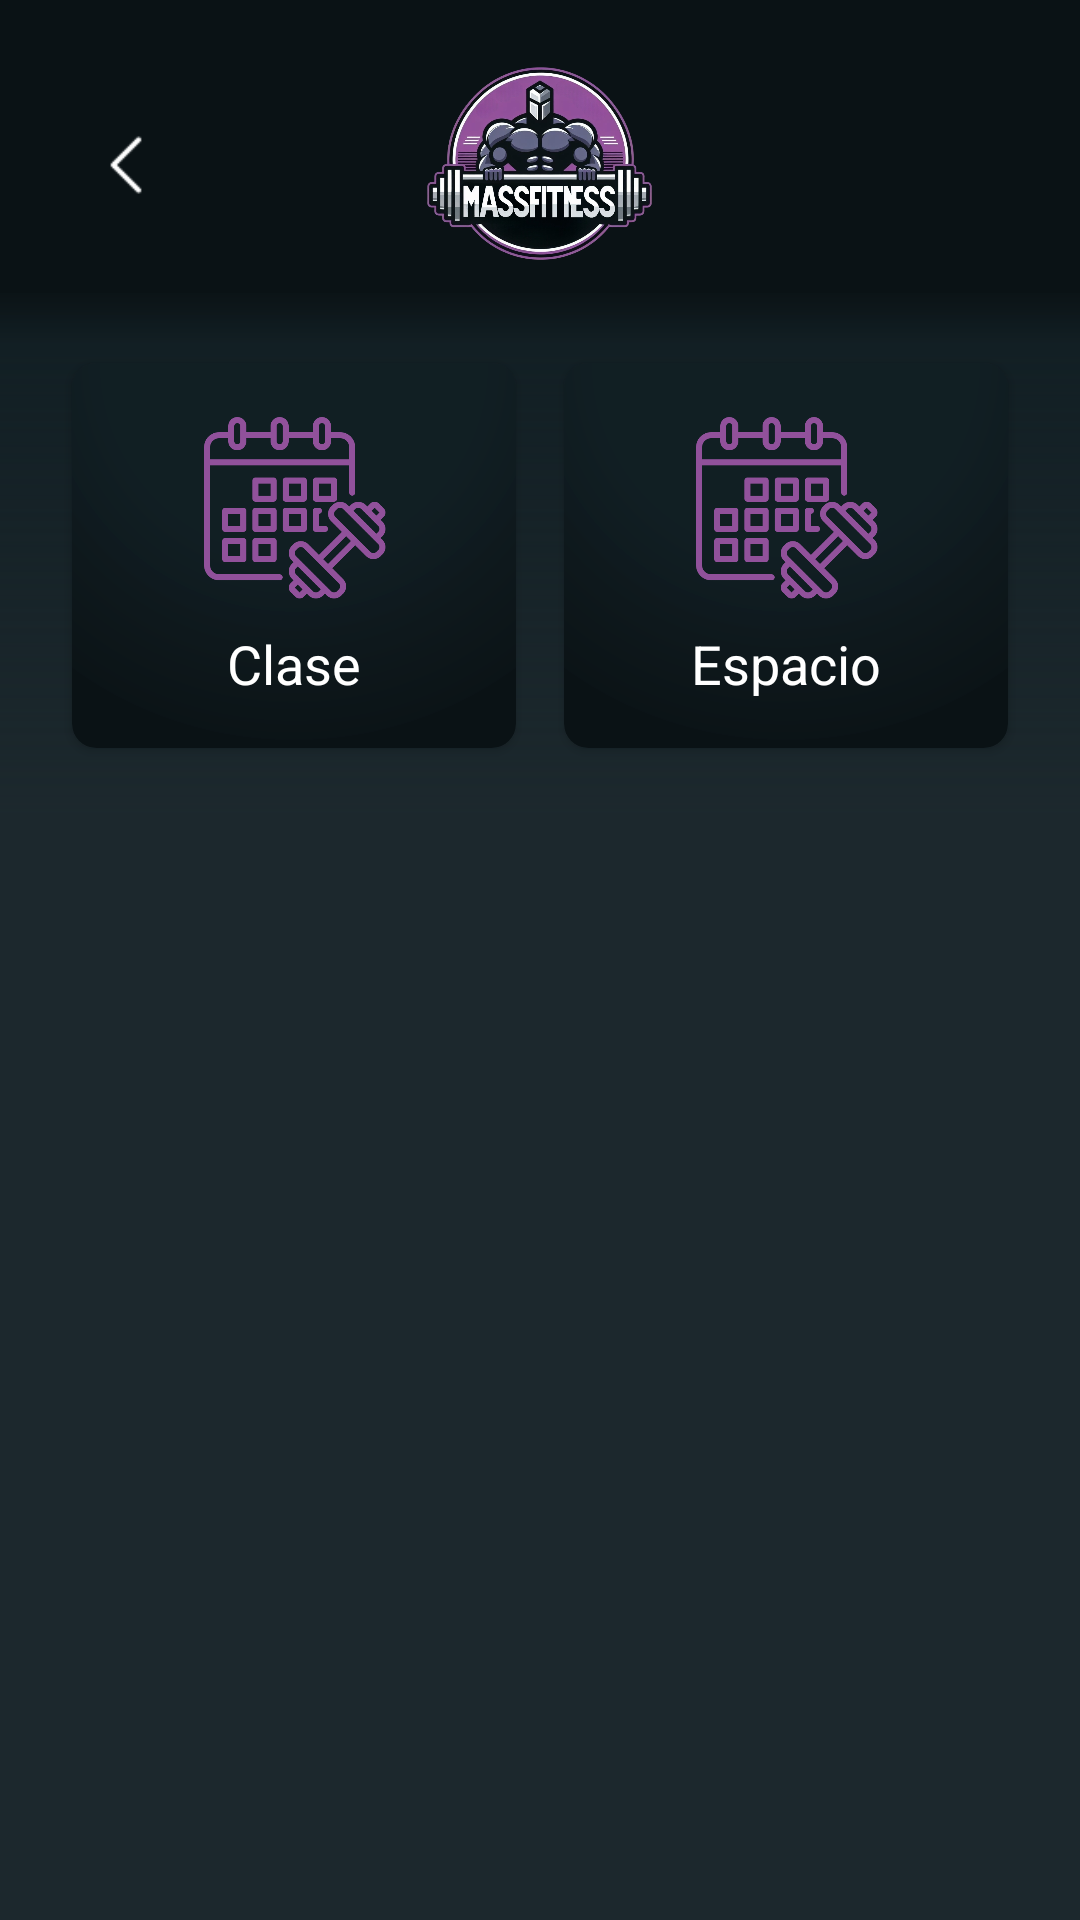

Icon click points for this 1080w x 1920h phone screenshot, format (x,y):
atras: (126,165)
reservar sala: (295,508), (787,508)
